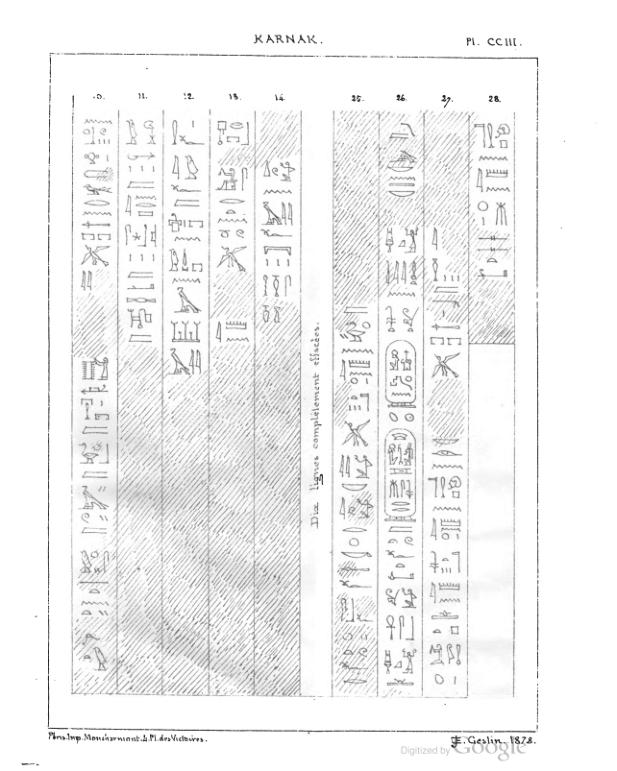circle: (382, 423, 419, 528), (382, 339, 419, 412)
